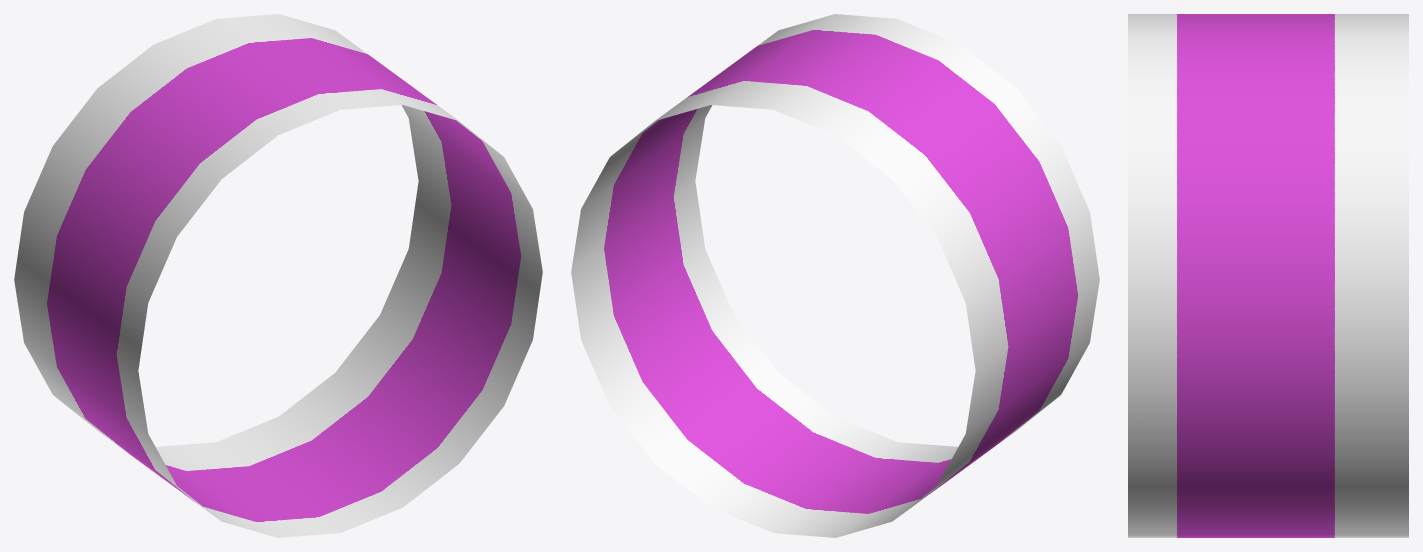
Rendered from Female_trex_scream_ring.fbx.
The picture shows the model from 3 angles, left to right: view 1: azimuth 30°, elevation 25°; view 2: azimuth 150°, elevation 25°; view 3: azimuth 270°, elevation 25°; orthographic projection. The views are drawn at different scales.
Parts seen in each view (by area): view 1: Female_trex_scream_ring; view 2: Female_trex_scream_ring; view 3: Female_trex_scream_ring.
Part boxes in pixels (x1,y1,x2,y2): Female_trex_scream_ring: [14, 14, 542, 537]; Female_trex_scream_ring: [571, 14, 1099, 537]; Female_trex_scream_ring: [1128, 14, 1408, 537].
Bounding box in the file's own units: 0.2164 × 0.2164 × 0.1151.
